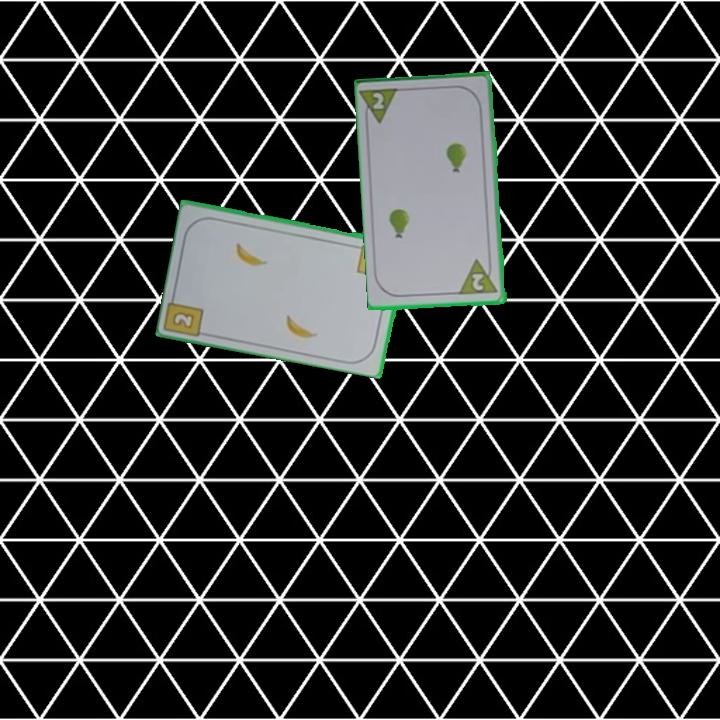2b: (169, 308, 198, 331)
2p: (359, 85, 404, 128), (457, 256, 501, 298)
